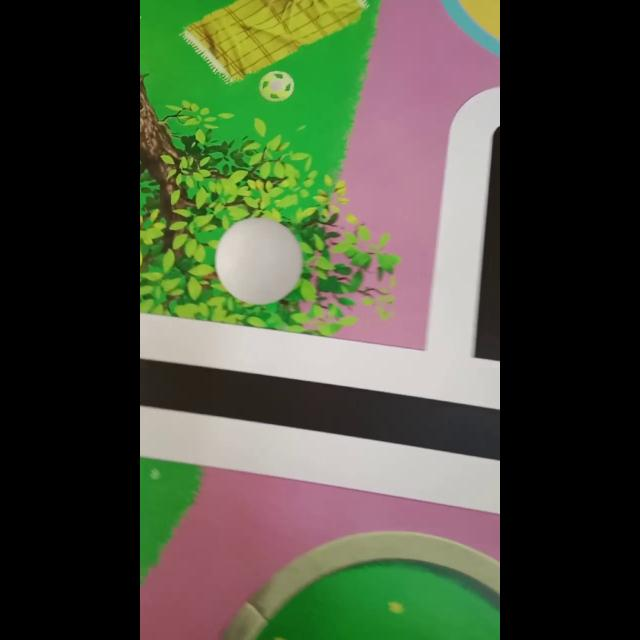white ball: (213, 217, 303, 306)
